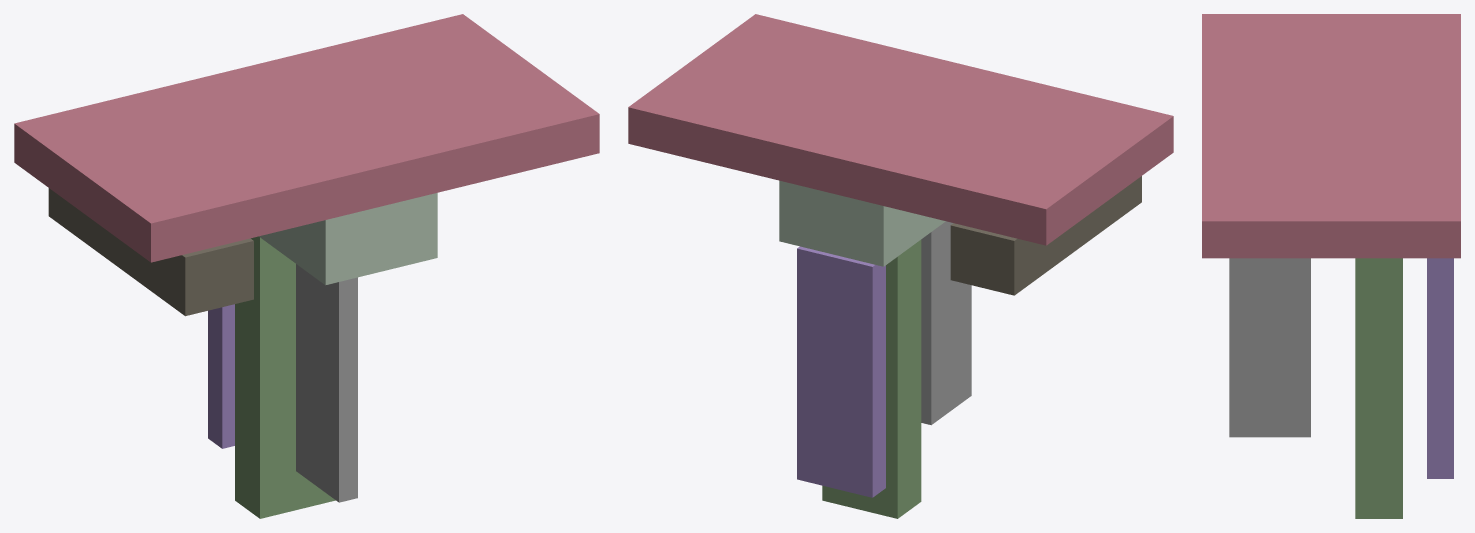
The model's file is 199519_pred.glb.
3 views of the same model, side by side, from view 1: azimuth 30°, elevation 25°; view 2: azimuth 150°, elevation 25°; view 3: azimuth 270°, elevation 25° (orthographic). The views are drawn at different scales.
Visible parts, largest first — view 1: world; view 2: world; view 3: world.
Boxes of the visible parts, x1,y1,x2,y2 form: world: [14, 14, 599, 518]; world: [628, 14, 1173, 518]; world: [1202, 14, 1460, 518].
Size of the model in its own units: 7.2 by 6.15 by 3.8.
